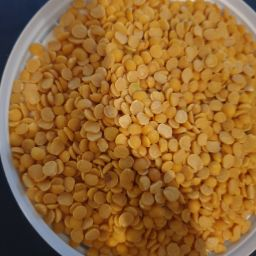Pigeon Pea(toor daal): (43, 56, 256, 256), (44, 3, 256, 200), (63, 26, 251, 166), (15, 38, 129, 253)
